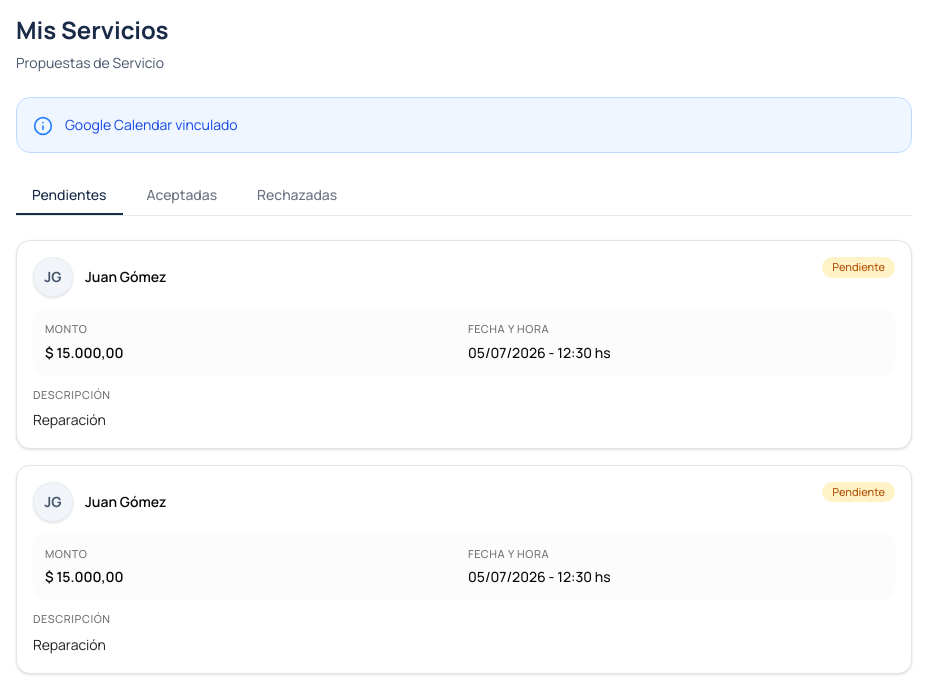
Scenario: ProposalHistoryView › shares one account lookup across multiple cards and tab changes
Expected: the number of buttons with test id "proposal-card" is 2, x1=16 y1=240 x2=912 y2=449; x1=16 y1=465 x2=912 y2=674
Expected: the text "Google Calendar vinculado" is shown, x1=65 y1=114 x2=238 y2=135
Click the tab "Aceptadas": (182, 196) x1=131 y1=177 x2=233 y2=215
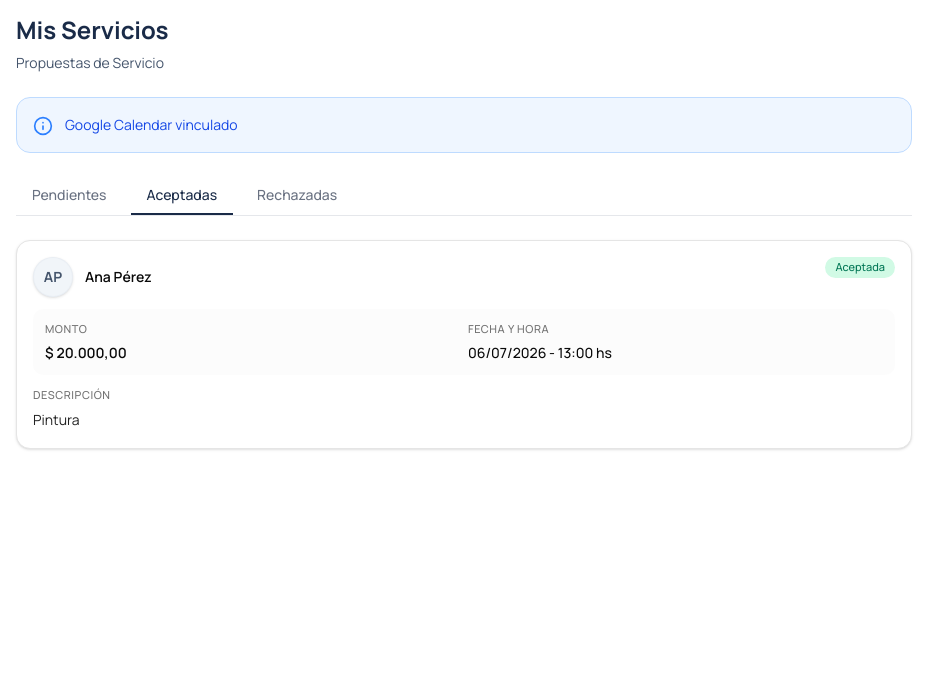
Now the heading "Ana Pérez" is shown, box x1=85 y1=270 x2=152 y2=284
